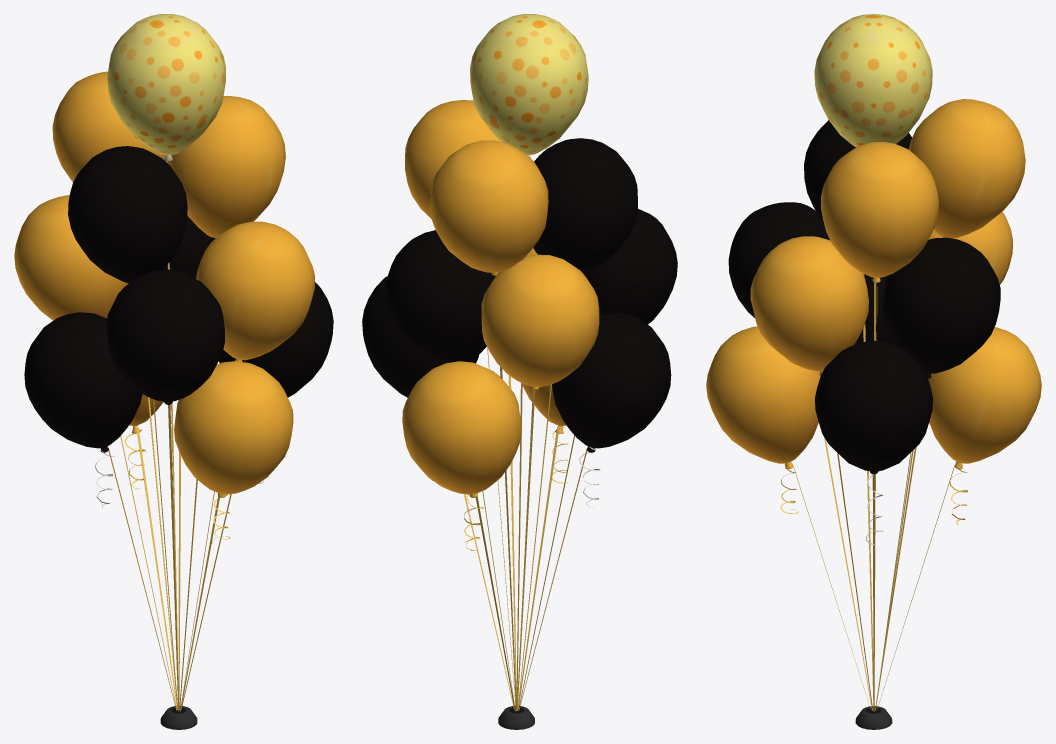
File: PartyBalloons03_GR1_2.FBX
3 renders of one model, left to right at view 1: azimuth 30°, elevation 25°; view 2: azimuth 150°, elevation 25°; view 3: azimuth 270°, elevation 25°, orthographic.
Visible parts, largest first — view 1: PartyBalloons03_GR1_2; view 2: PartyBalloons03_GR1_2; view 3: PartyBalloons03_GR1_2.
Part boxes in pixels (x1,y1,x2,y2): PartyBalloons03_GR1_2: (14,14,333,729); PartyBalloons03_GR1_2: (362,14,677,729); PartyBalloons03_GR1_2: (706,14,1041,729).
Size of what is drawn, in the model's own units: 1.01 by 2.3 by 1.01.
